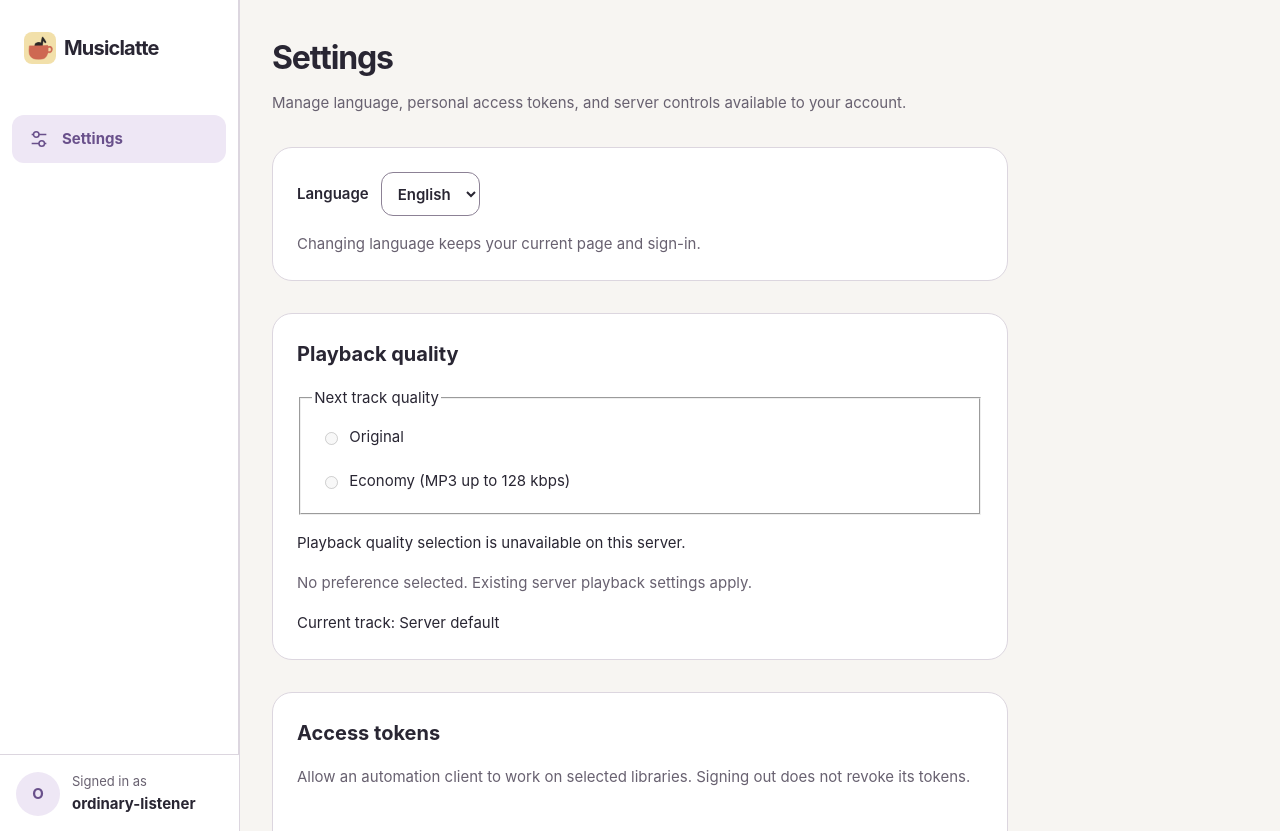
hides denied scan and engine settings while keeping allowed personal tokens
This screenshot has width=1280, height=831.
Expected: the heading "Access tokens" is shown, 297,721 -> 440,745
Select "한국어" in the dropdown labelled "Language" at {"x": 430, "y": 194}, box 381,172 -> 480,216
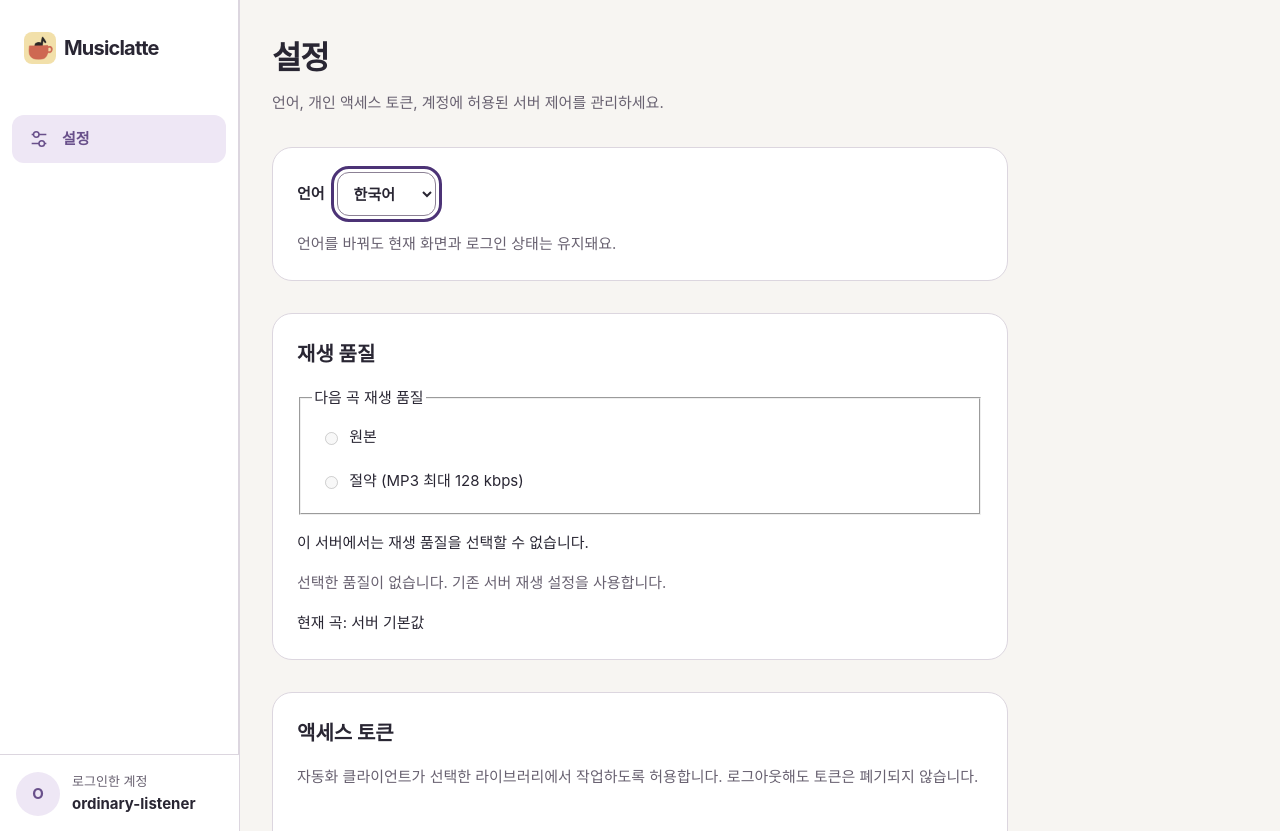
Now the heading "액세스 토큰" is shown, box 297,721 -> 394,745
